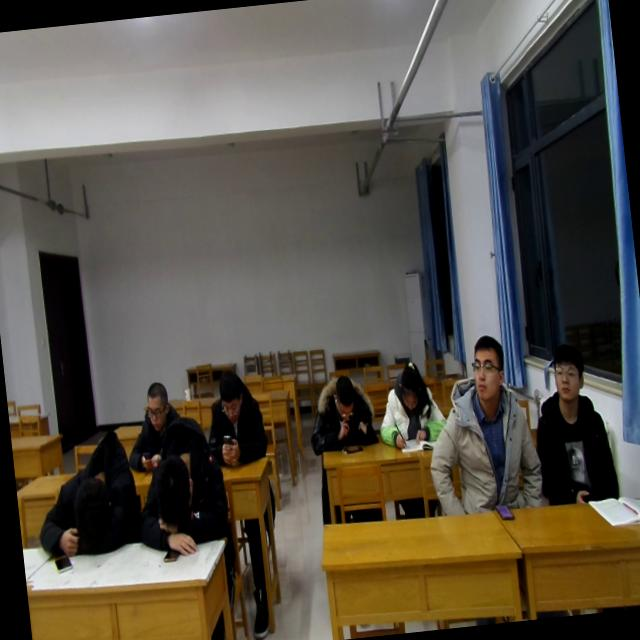bow: (129, 424, 234, 562), (29, 426, 138, 557)
down: (213, 364, 247, 428), (326, 367, 359, 421), (394, 361, 426, 414), (139, 378, 170, 432)
lookup: (467, 329, 510, 406), (546, 338, 588, 403)
sit: (419, 333, 546, 518), (529, 336, 616, 507), (374, 356, 456, 464), (200, 364, 272, 469), (303, 365, 377, 455), (125, 372, 202, 454)
